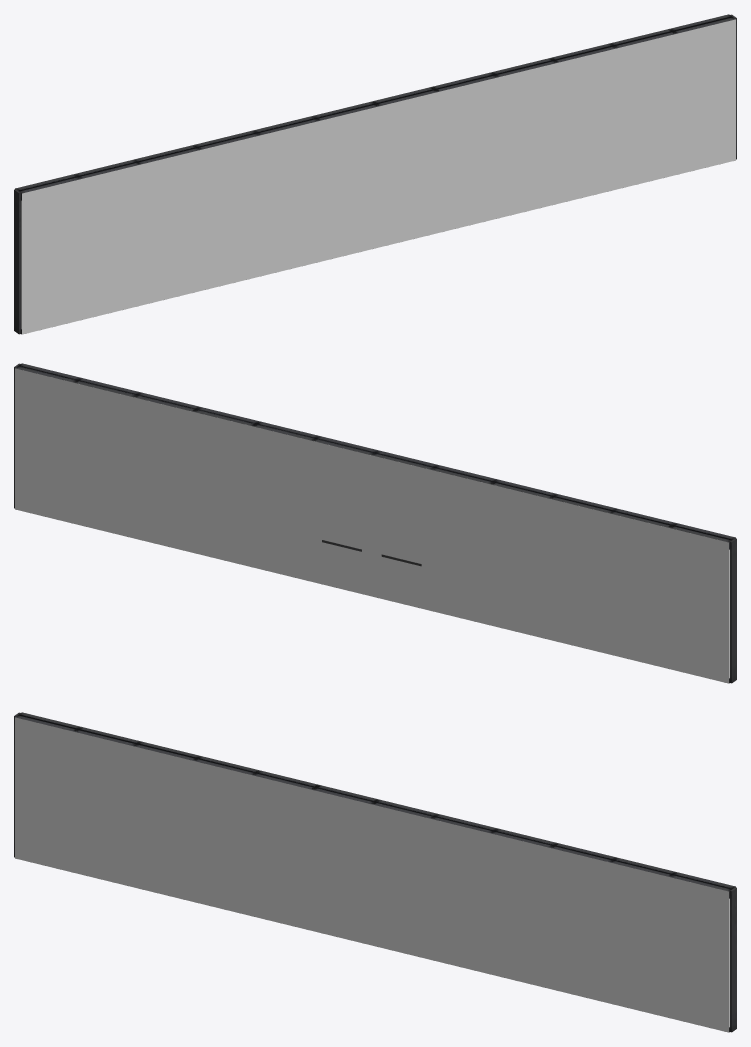
File: glass_front.glb
The picture shows the model from 3 angles, top to bottom: view 1: azimuth 30°, elevation 25°; view 2: azimuth 150°, elevation 25°; view 3: azimuth 330°, elevation 25°; orthographic projection.
Parts seen in each view (by area): view 1: COL_Front, GlassFront; view 2: COL_Front, GlassFront; view 3: COL_Front, GlassFront.
Boxes of the visible parts, x1,y1,x2,y2 form: COL_Front: [21, 19, 735, 334]; GlassFront: [14, 14, 736, 334]; COL_Front: [15, 368, 729, 683]; GlassFront: [14, 363, 736, 683]; COL_Front: [15, 717, 729, 1032]; GlassFront: [14, 712, 736, 1032].
Size of the model in its own units: 18.1 by 3.4 by 0.316.
3 materials, 3 textured.
